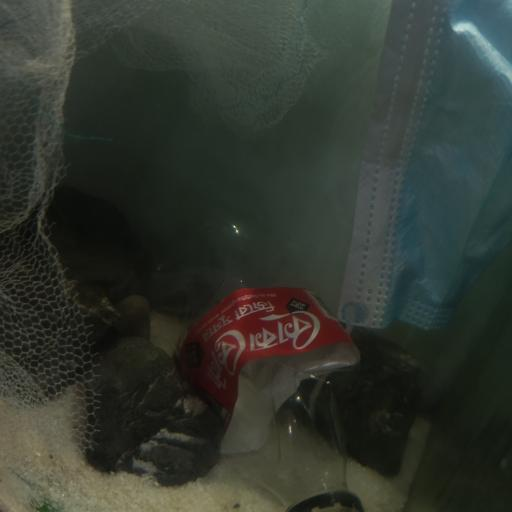mask: (346, 0, 512, 329)
net: (0, 1, 310, 504)
plastic_bottle: (146, 207, 365, 512)
